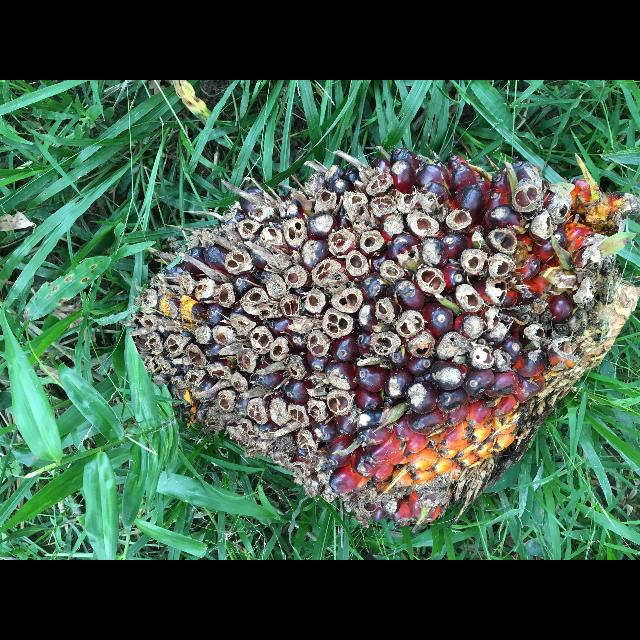Damaged: (131, 149, 639, 527)
